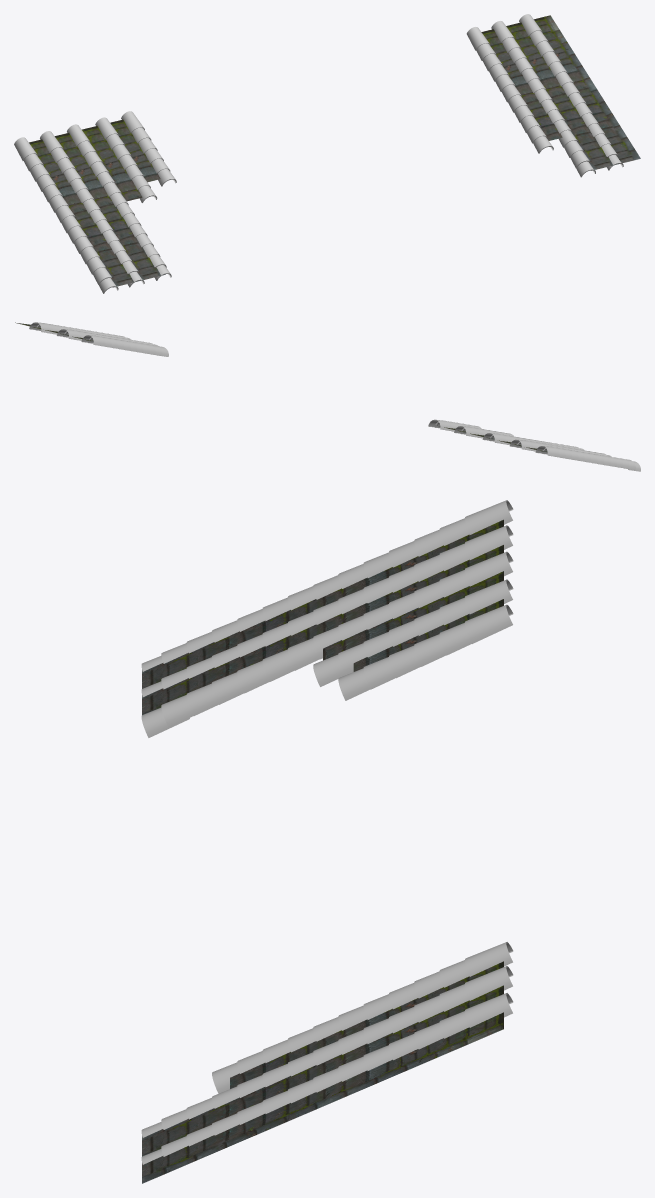
Rendered from 破损瓦.fbx.
3 renders of one model, top to bottom at view 1: azimuth 30°, elevation 25°; view 2: azimuth 150°, elevation 25°; view 3: azimuth 270°, elevation 25°, orthographic. The views are drawn at different scales.
Visible parts, largest first — view 1: 对象026; view 2: 对象026; view 3: 对象026.
Part boxes in pixels (x1,y1,x2,y2): 对象026: [14, 14, 640, 293]; 对象026: [15, 322, 640, 471]; 对象026: [141, 500, 513, 1183].
Bounding box in the file's own units: 245 × 38.93 × 73.55.
